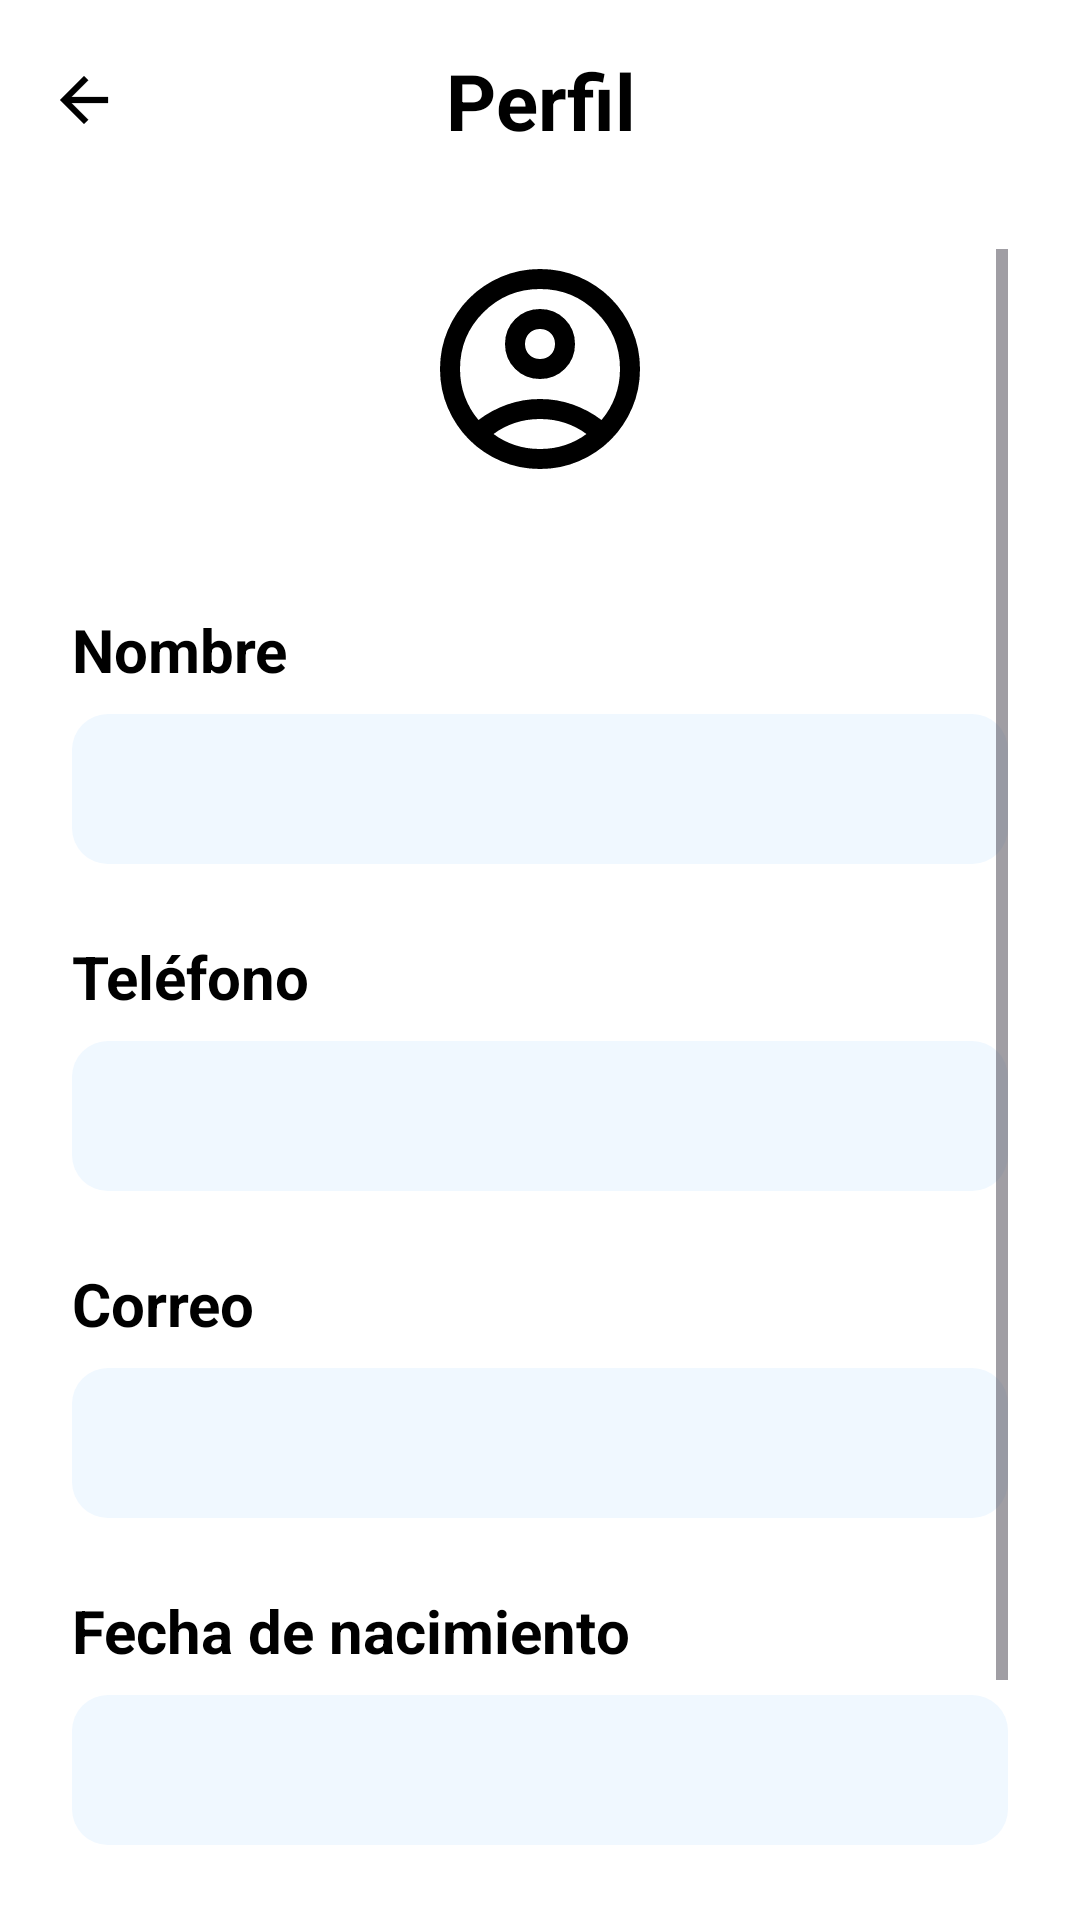

Named icons in this screenshot (1080×1920) and their bounding boxes, (x1,y1,x2,y2):
Volver atrás: (60,76,109,124)
